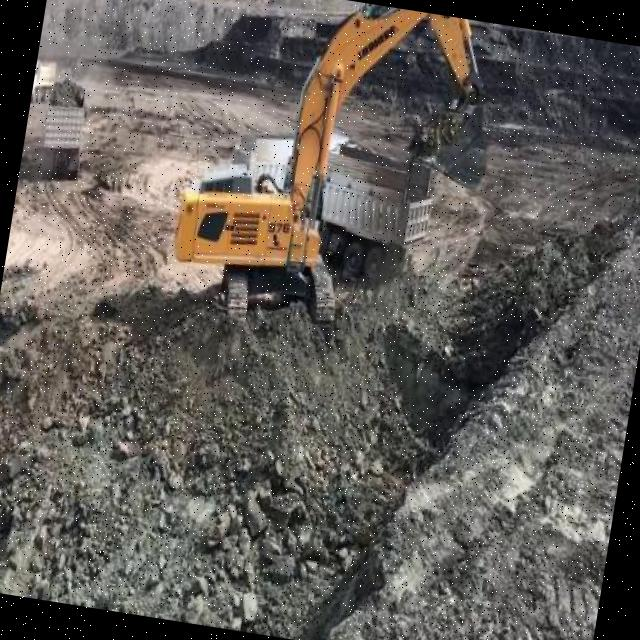Dump Truck: (312, 142, 440, 286), (36, 86, 94, 178), (31, 61, 57, 100)
Excavator: (154, 0, 501, 355)
